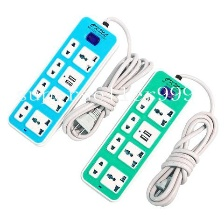three_eye_plug: (72, 64, 194, 205), (4, 12, 119, 147)
